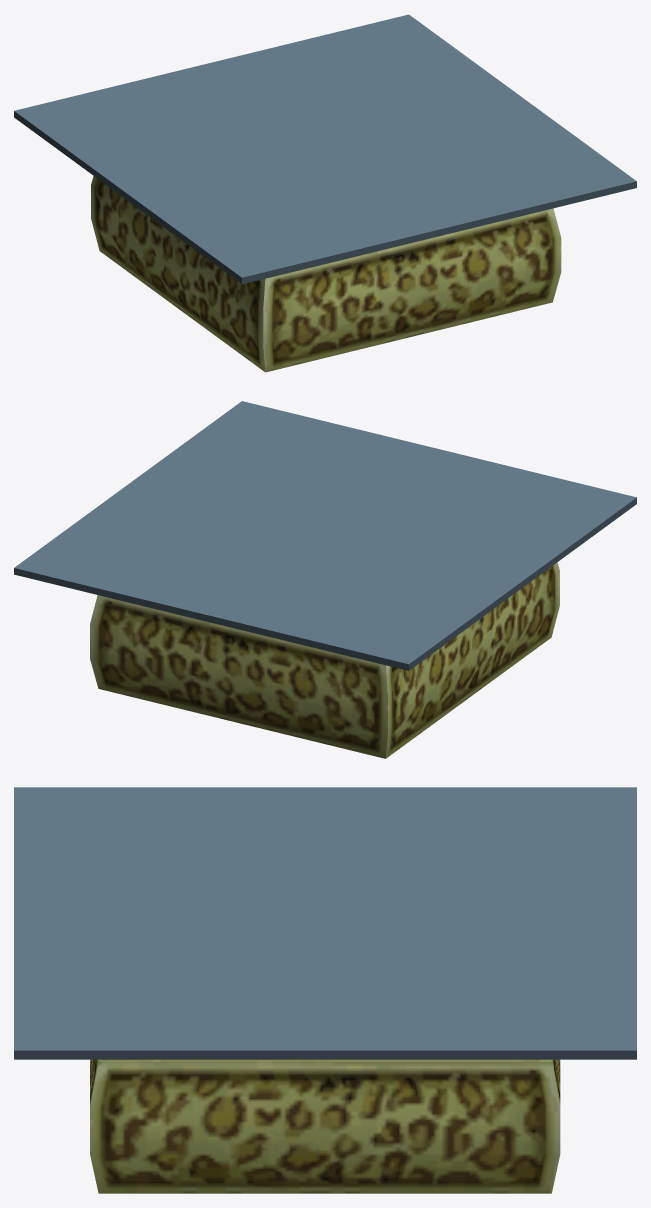
The model's file is furni_0200097_01.FBX.
3 renders of one model, top to bottom at view 1: azimuth 30°, elevation 25°; view 2: azimuth 150°, elevation 25°; view 3: azimuth 270°, elevation 25°, orthographic. The views are drawn at different scales.
Parts seen in each view (by area): view 1: furni_0200097_01; view 2: furni_0200097_01; view 3: furni_0200097_01.
Part boxes in pixels (x1,y1,x2,y2): furni_0200097_01: [14, 14, 636, 372]; furni_0200097_01: [14, 401, 636, 758]; furni_0200097_01: [14, 787, 636, 1193].
Bounding box in the file's own units: 160 × 50.61 × 160.
Materials: 2 (2 with a texture image).
